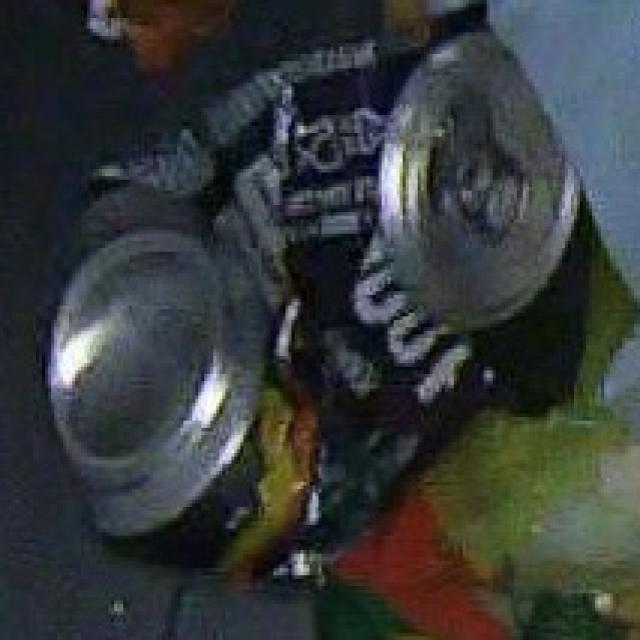can: (59, 27, 580, 557)
